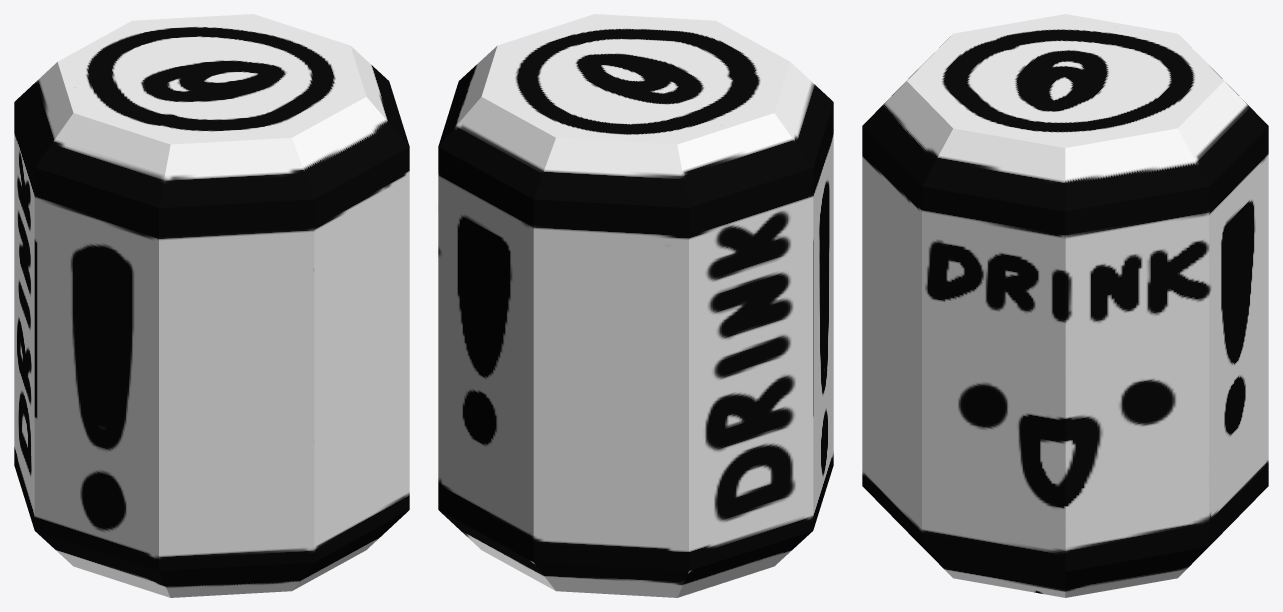
Rendered from Plechovka.glb.
The picture shows the model from 3 angles, left to right: view 1: azimuth 30°, elevation 25°; view 2: azimuth 150°, elevation 25°; view 3: azimuth 270°, elevation 25°; orthographic projection.
Parts seen in each view (by area): view 1: Cylinder; view 2: Cylinder; view 3: Cylinder.
Boxes of the visible parts, box(x1,y1,x2,y2) form: Cylinder: box(14, 14, 409, 597); Cylinder: box(438, 14, 833, 597); Cylinder: box(862, 14, 1268, 597).
Bounding box in the file's own units: 0.4785 × 0.5847 × 0.4785.
1 material, 1 textured.
